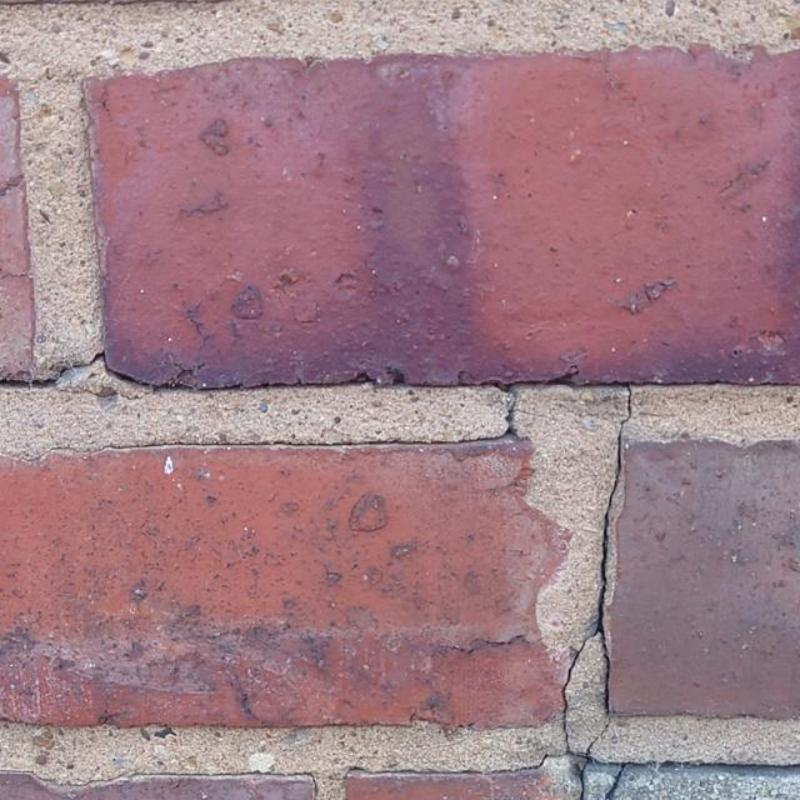crack: (86, 381, 518, 453), (561, 385, 632, 751), (101, 358, 499, 392), (0, 768, 319, 794), (341, 751, 585, 778), (1, 352, 105, 387), (580, 715, 611, 799), (631, 761, 799, 771), (605, 762, 635, 799), (625, 380, 799, 386), (510, 380, 624, 386), (591, 756, 622, 768)
